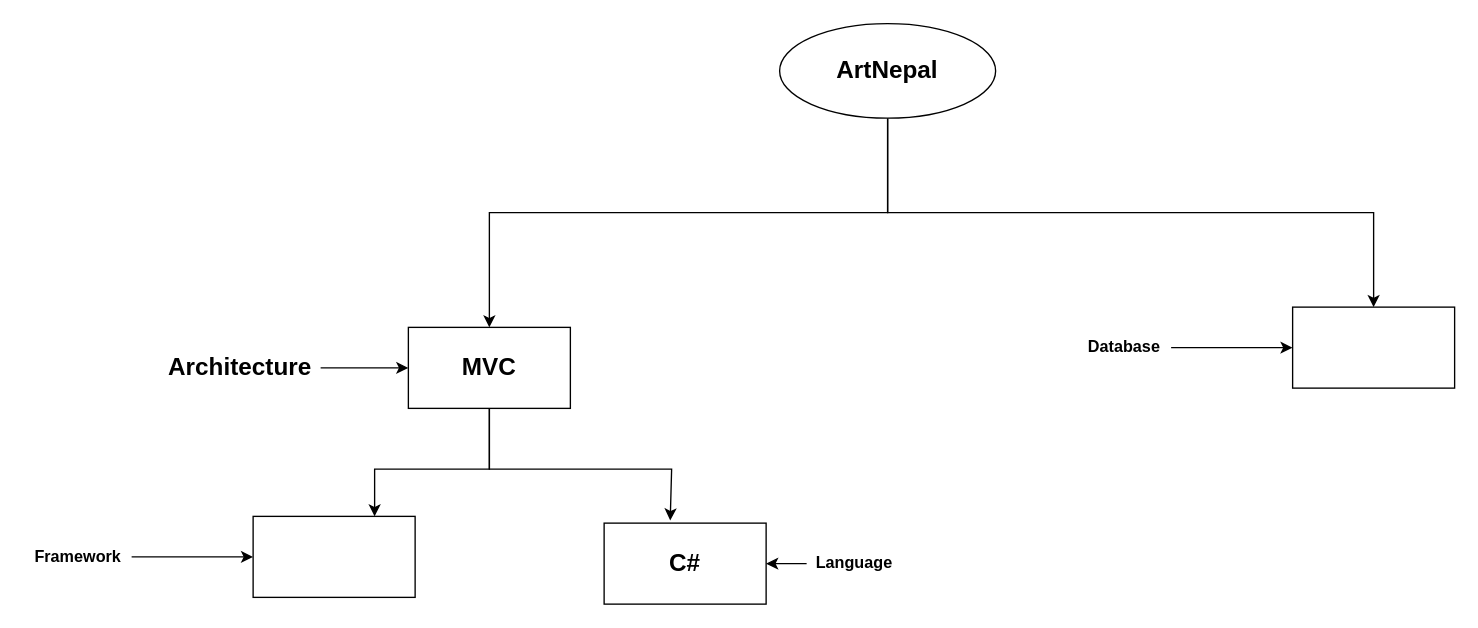
This 1478x628 diagram has some shape labels left out. The centre of each missing label's shape, as x and y in pixels:
DOTNET: the point at 333,556
MS SQL: the point at 1373,347
